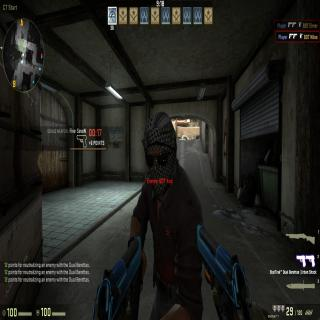T-Body: (130, 106, 200, 320)
T-Head: (140, 108, 180, 201)
